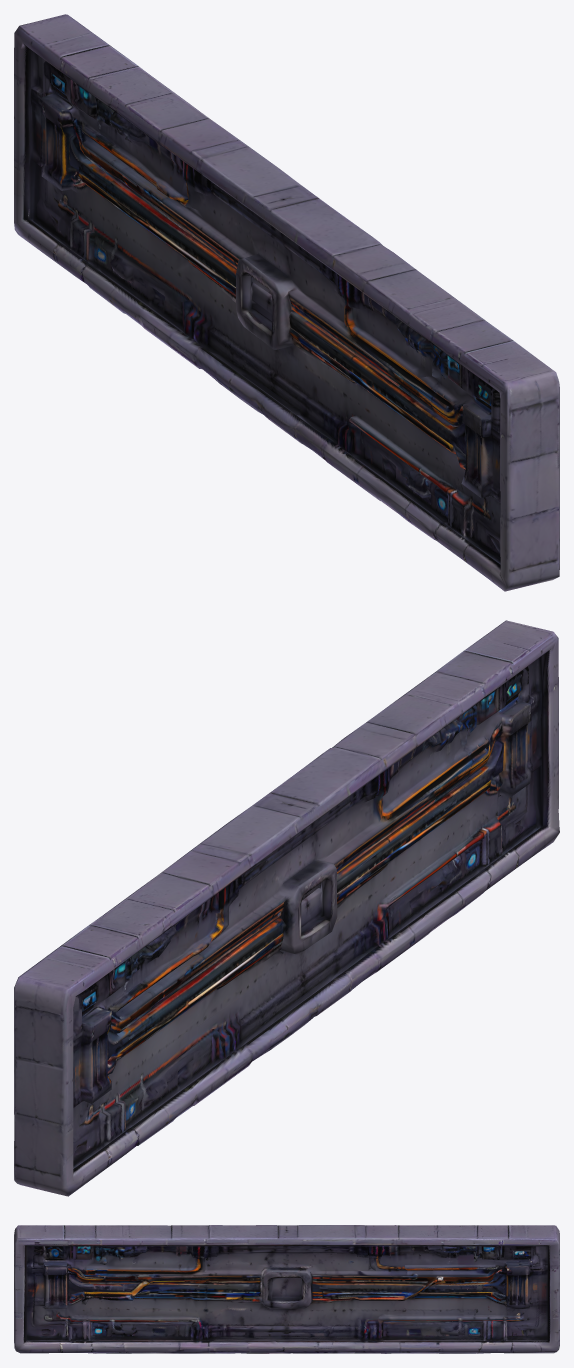
The model's file is futuristic+control+panel+3d+model.obj.
3 renders of one model, top to bottom at view 1: azimuth 30°, elevation 25°; view 2: azimuth 150°, elevation 25°; view 3: azimuth 270°, elevation 25°, orthographic. The views are drawn at different scales.
Parts seen in each view (by area): view 1: tripo_node_2e7b1de0-b8b3-46f6-875b-945b9889b7c8; view 2: tripo_node_2e7b1de0-b8b3-46f6-875b-945b9889b7c8; view 3: tripo_node_2e7b1de0-b8b3-46f6-875b-945b9889b7c8.
Boxes of the visible parts, x1=… form: tripo_node_2e7b1de0-b8b3-46f6-875b-945b9889b7c8: x1=14, y1=14, x2=559, y2=591; tripo_node_2e7b1de0-b8b3-46f6-875b-945b9889b7c8: x1=14, y1=620, x2=559, y2=1196; tripo_node_2e7b1de0-b8b3-46f6-875b-945b9889b7c8: x1=14, y1=1225, x2=559, y2=1353.
Bounding box in the file's own units: 0.0672 × 0.2348 × 0.9999.
1 material, 1 textured.
